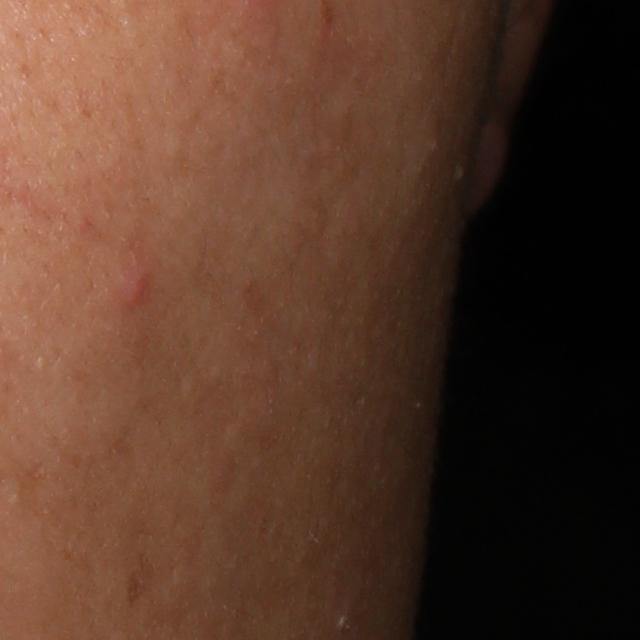papule: (113, 264, 157, 316)
